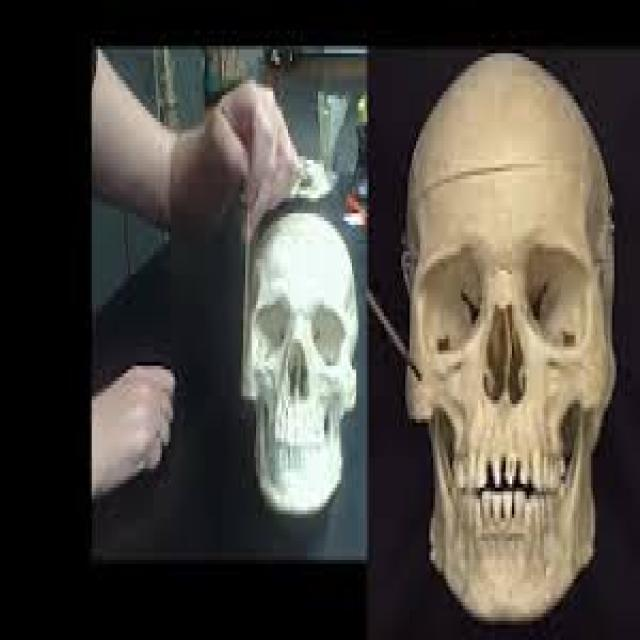skull: (397, 49, 615, 625)
